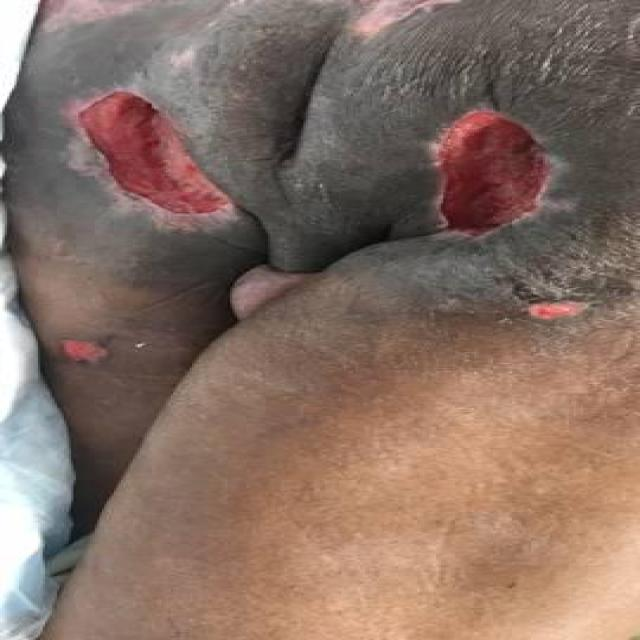stage-3: (78, 91, 231, 213), (436, 109, 549, 234)
